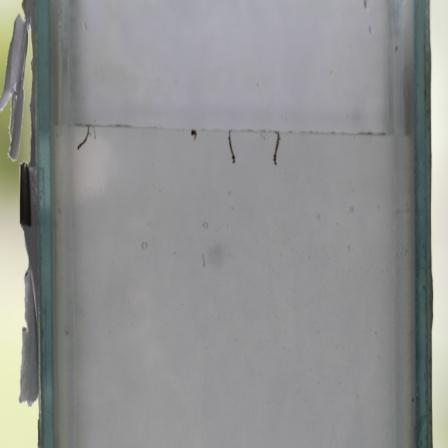Jentik-Nyamuk: (74, 123, 94, 154), (224, 127, 238, 166), (269, 128, 283, 167), (186, 125, 201, 142)
